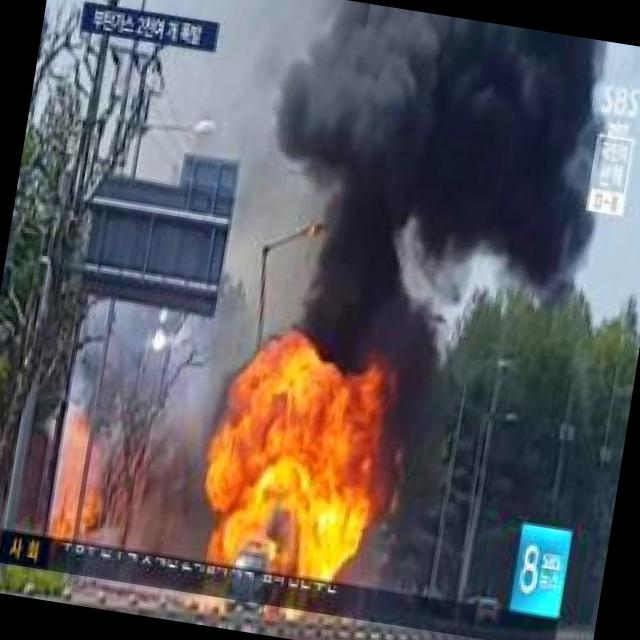Fire: (201, 339, 393, 592)
Smoke: (237, 0, 627, 394)
